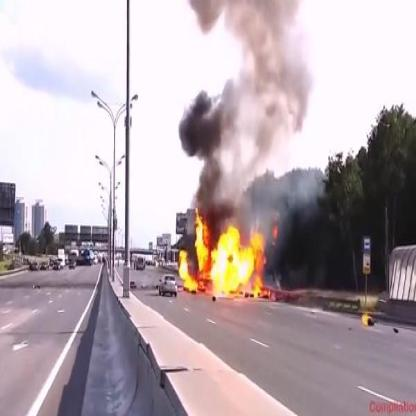fire: (177, 198, 266, 298)
